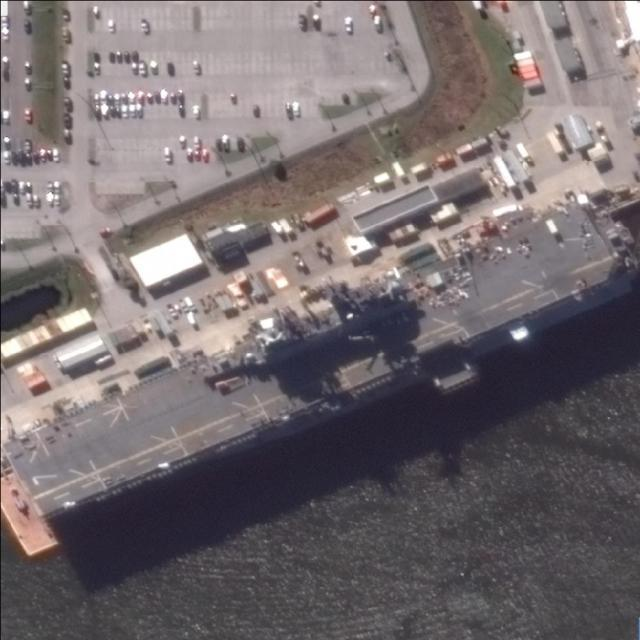Landing: (6, 201, 637, 522)
